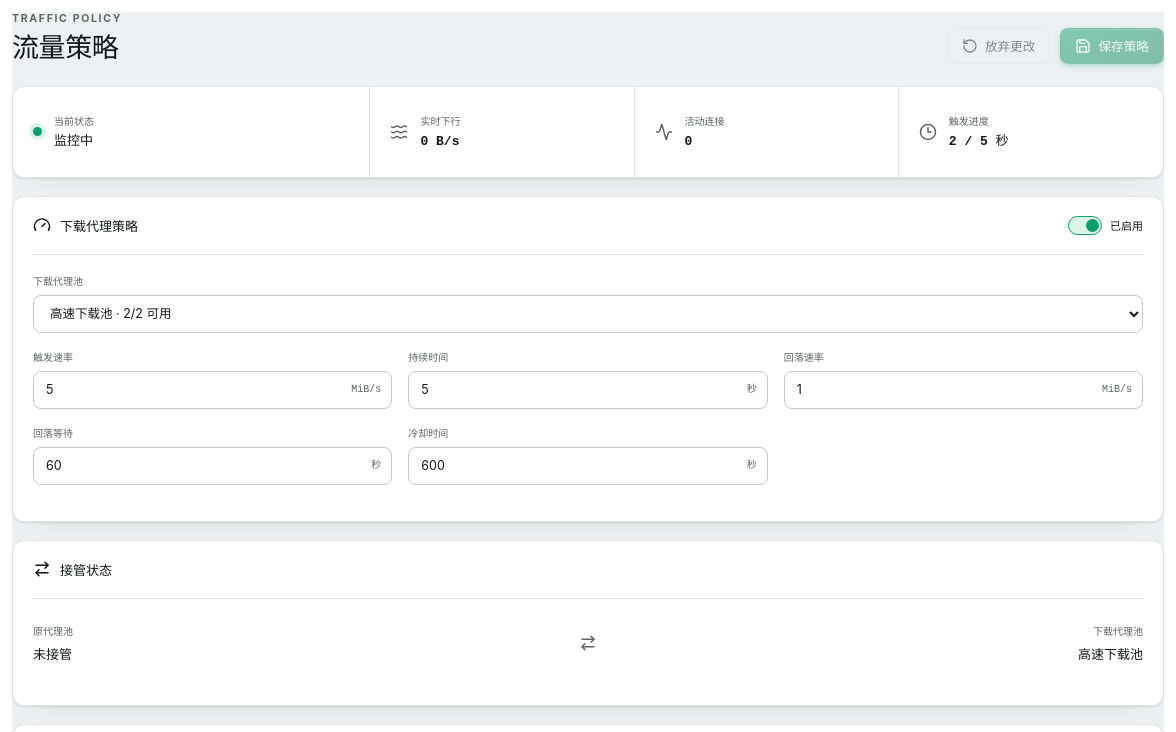
Test case: TrafficPolicyView › keeps unsaved configuration out of live status and can discard it
This screenshot has width=1176, height=732.
Expected: the text "2 / 5 秒" is shown, 949,134 -> 1009,150
Expected: the text "高速下载池" is shown, 1078,646 -> 1143,662
Replace the text in the number field labelled "持续时间" with "30" at (588, 390), box 408,370 -> 768,408
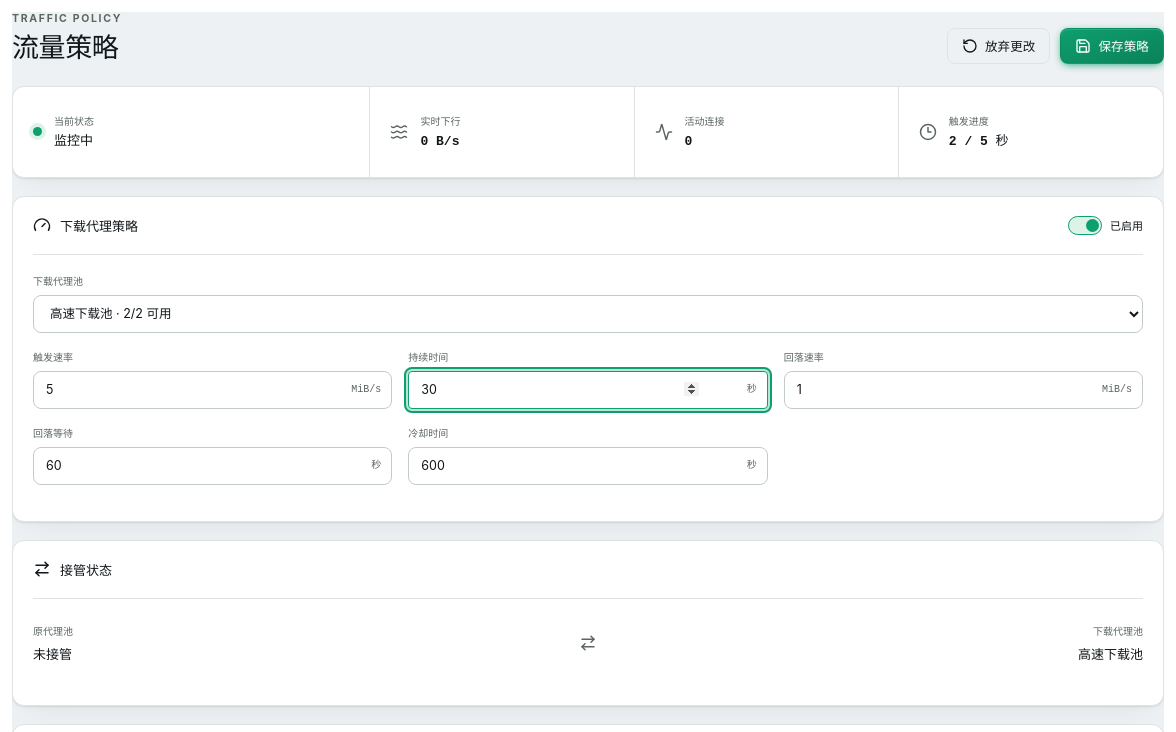
Expected: the text "2 / 5 秒" is shown, 949,134 -> 1009,150
Result: the button "放弃更改" is enabled
Click the button "放弃更改" at (999, 46), box 947,28 -> 1050,64
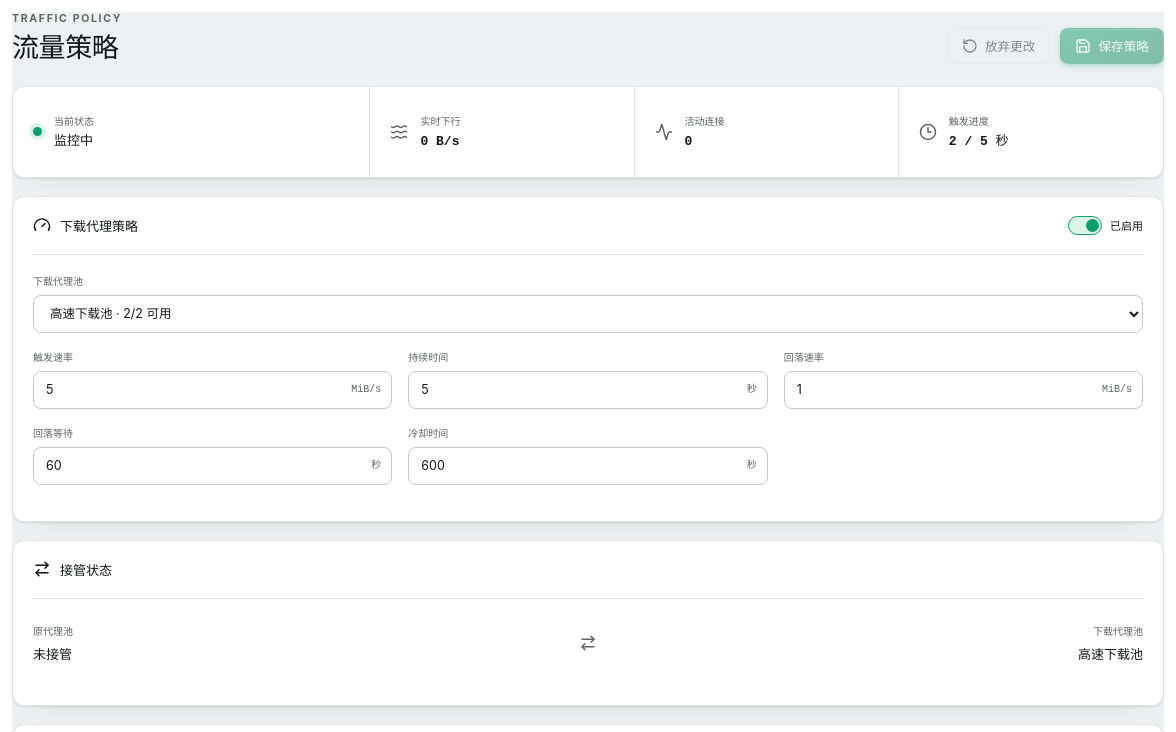
Result: the number field labelled "持续时间" holds "5" at 408,370 -> 768,408
Result: the button "保存策略" is disabled at 1060,28 -> 1164,64
